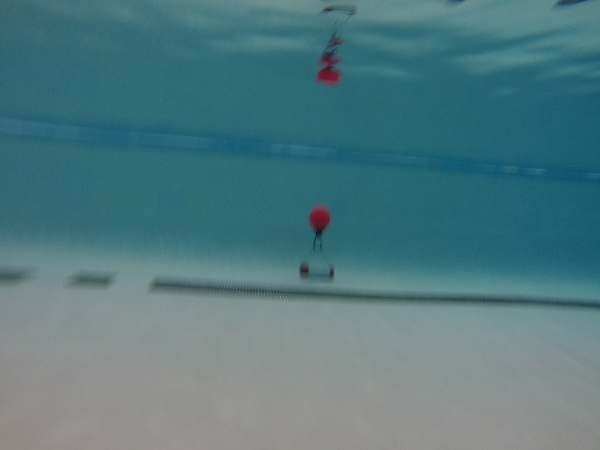buoy_red: (304, 205, 333, 240)
